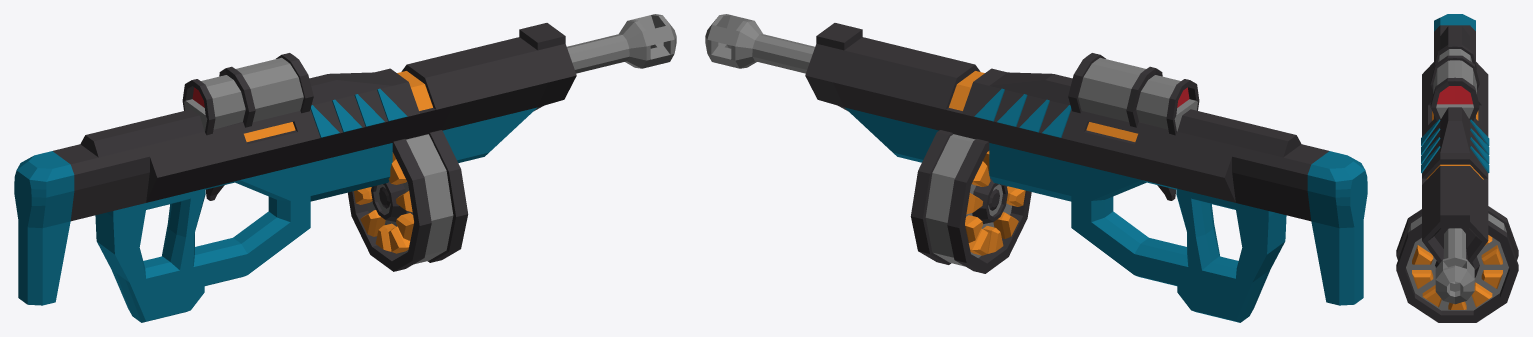
File: Lanzagranadas.fbx
3 views of the same model, side by side, from view 1: azimuth 30°, elevation 25°; view 2: azimuth 150°, elevation 25°; view 3: azimuth 270°, elevation 25° (orthographic). The views are drawn at different scales.
Visible parts, largest first — view 1: Cylinder.022; view 2: Cylinder.022; view 3: Cylinder.022.
Boxes of the visible parts, bbox=[...] form: Cylinder.022: bbox=[14, 14, 676, 322]; Cylinder.022: bbox=[705, 14, 1367, 322]; Cylinder.022: bbox=[1396, 14, 1518, 322].
Bounding box in the file's own units: 1.02 × 0.3465 × 0.2053.
